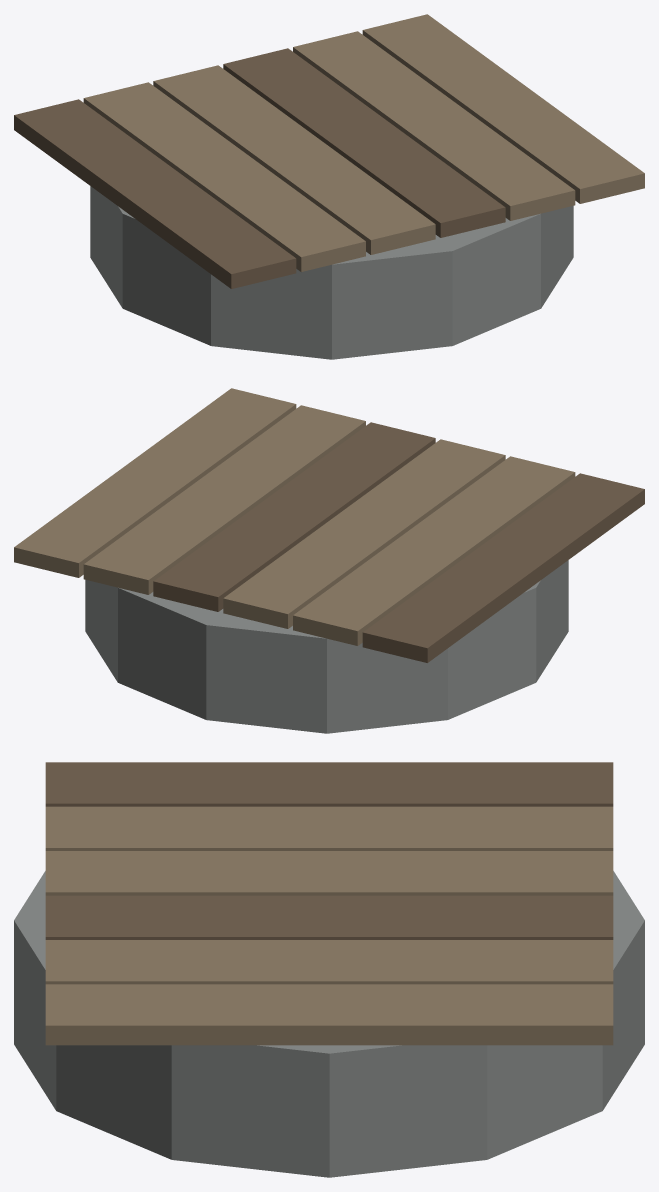
File: well_cover.glb
3 renders of one model, top to bottom at view 1: azimuth 30°, elevation 25°; view 2: azimuth 150°, elevation 25°; view 3: azimuth 270°, elevation 25°, orthographic. The views are drawn at different scales.
Parts seen in each view (by area): view 1: well_cover; view 2: well_cover; view 3: well_cover.
Boxes of the visible parts, x1,y1,x2,y2 form: well_cover: (14, 14, 644, 359); well_cover: (14, 388, 644, 733); well_cover: (14, 762, 644, 1177).
Size of the model in its own units: 1.92 by 0.5 by 1.92.
